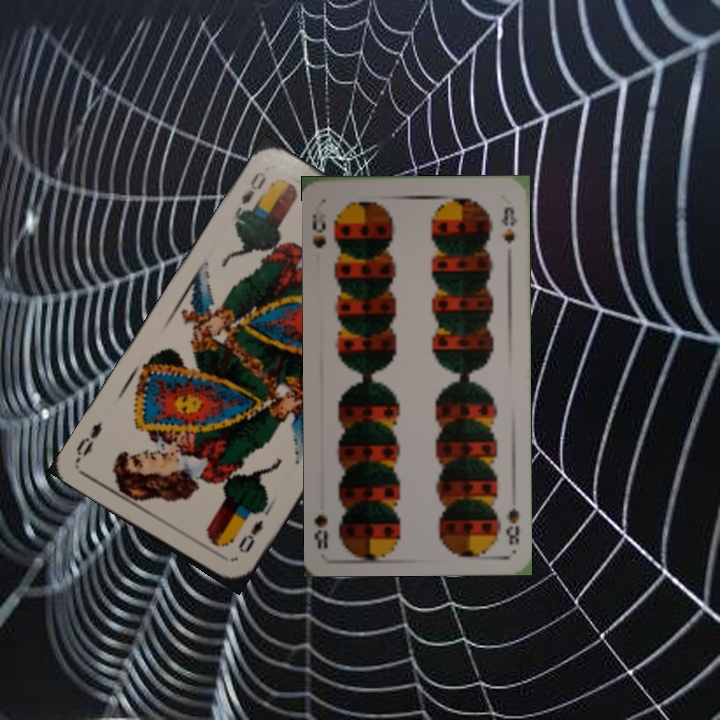EO: (231, 167, 269, 219), (234, 516, 266, 556)
S8: (309, 201, 329, 251), (501, 504, 522, 547)
